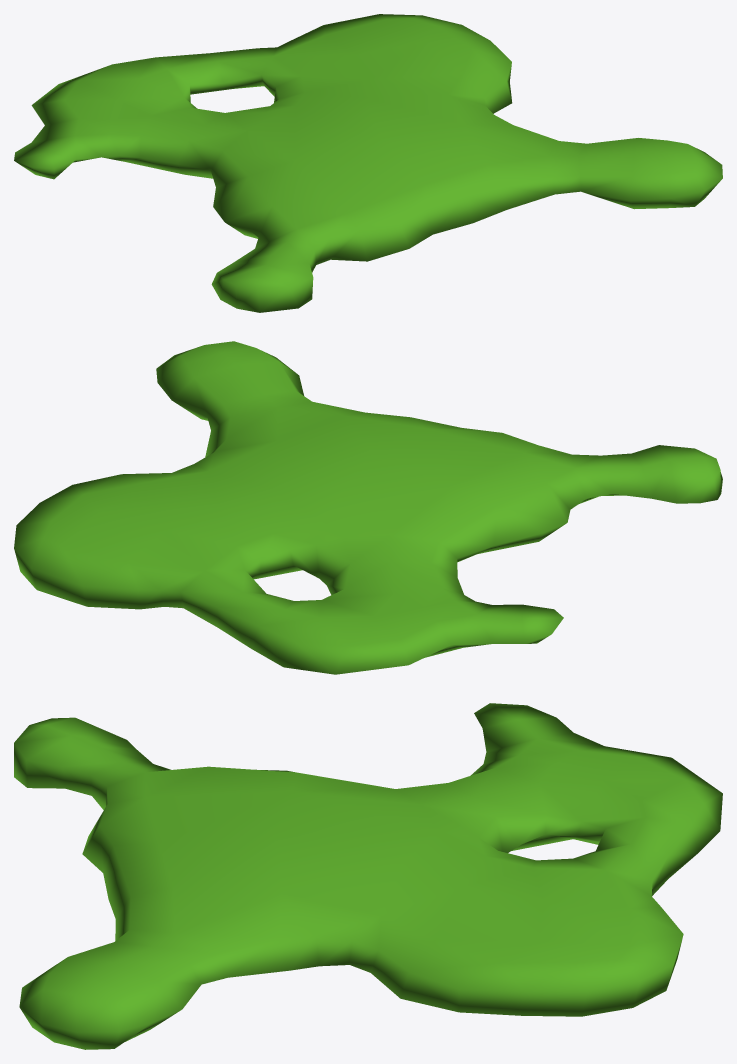
Rendered from p_stickywheel_ground_blob_animated_uv.fbx.
3 renders of one model, top to bottom at view 1: azimuth 30°, elevation 25°; view 2: azimuth 150°, elevation 25°; view 3: azimuth 270°, elevation 25°, orthographic. The views are drawn at different scales.
Parts seen in each view (by area): view 1: p_stickywheel_ground_blob_animated_uv; view 2: p_stickywheel_ground_blob_animated_uv; view 3: p_stickywheel_ground_blob_animated_uv.
Part boxes in pixels (x1=…): p_stickywheel_ground_blob_animated_uv: x1=14, y1=14, x2=722, y2=312; p_stickywheel_ground_blob_animated_uv: x1=14, y1=341, x2=722, y2=674; p_stickywheel_ground_blob_animated_uv: x1=14, y1=703, x2=722, y2=1049.
Bounding box in the file's own units: 2.92 × 0.3335 × 2.69.
